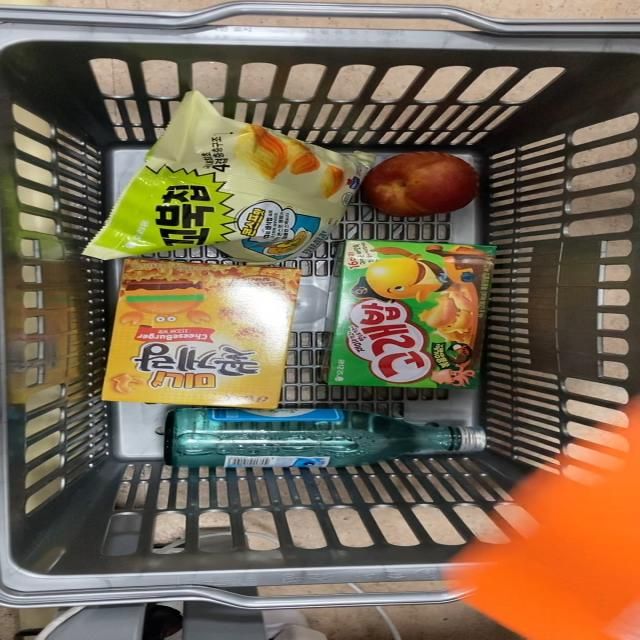ggobukchip: (72, 91, 355, 268)
goraebob: (321, 234, 493, 388)
jinro: (131, 416, 507, 473)
minicrab: (75, 262, 308, 404)
plum: (356, 146, 488, 220)
